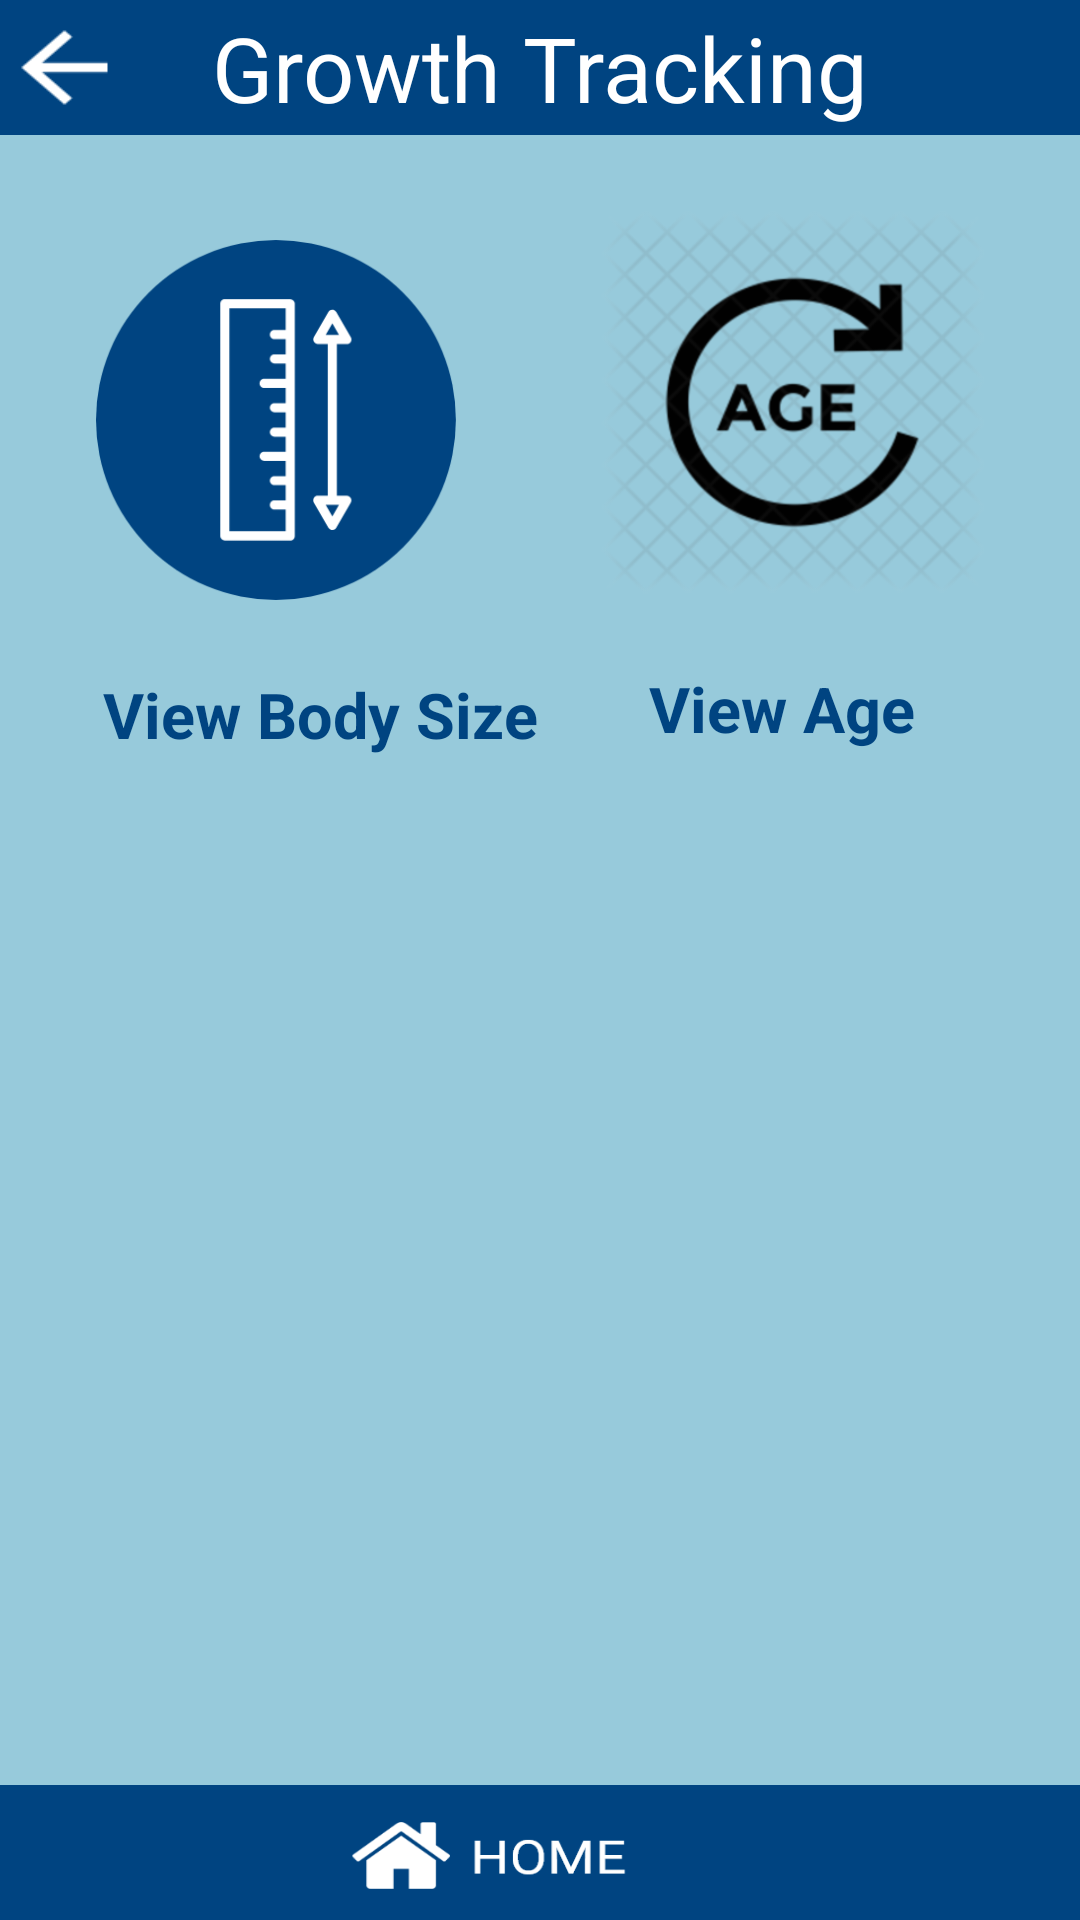

Icon bounding boxes for this 1080w x 1920h phone screenshot, format [x1=x1, y1=y1, x2=x2, y2=y2]:
back: [x1=21, y1=30, x2=108, y2=105]
lenght: [x1=96, y1=240, x2=456, y2=600]
